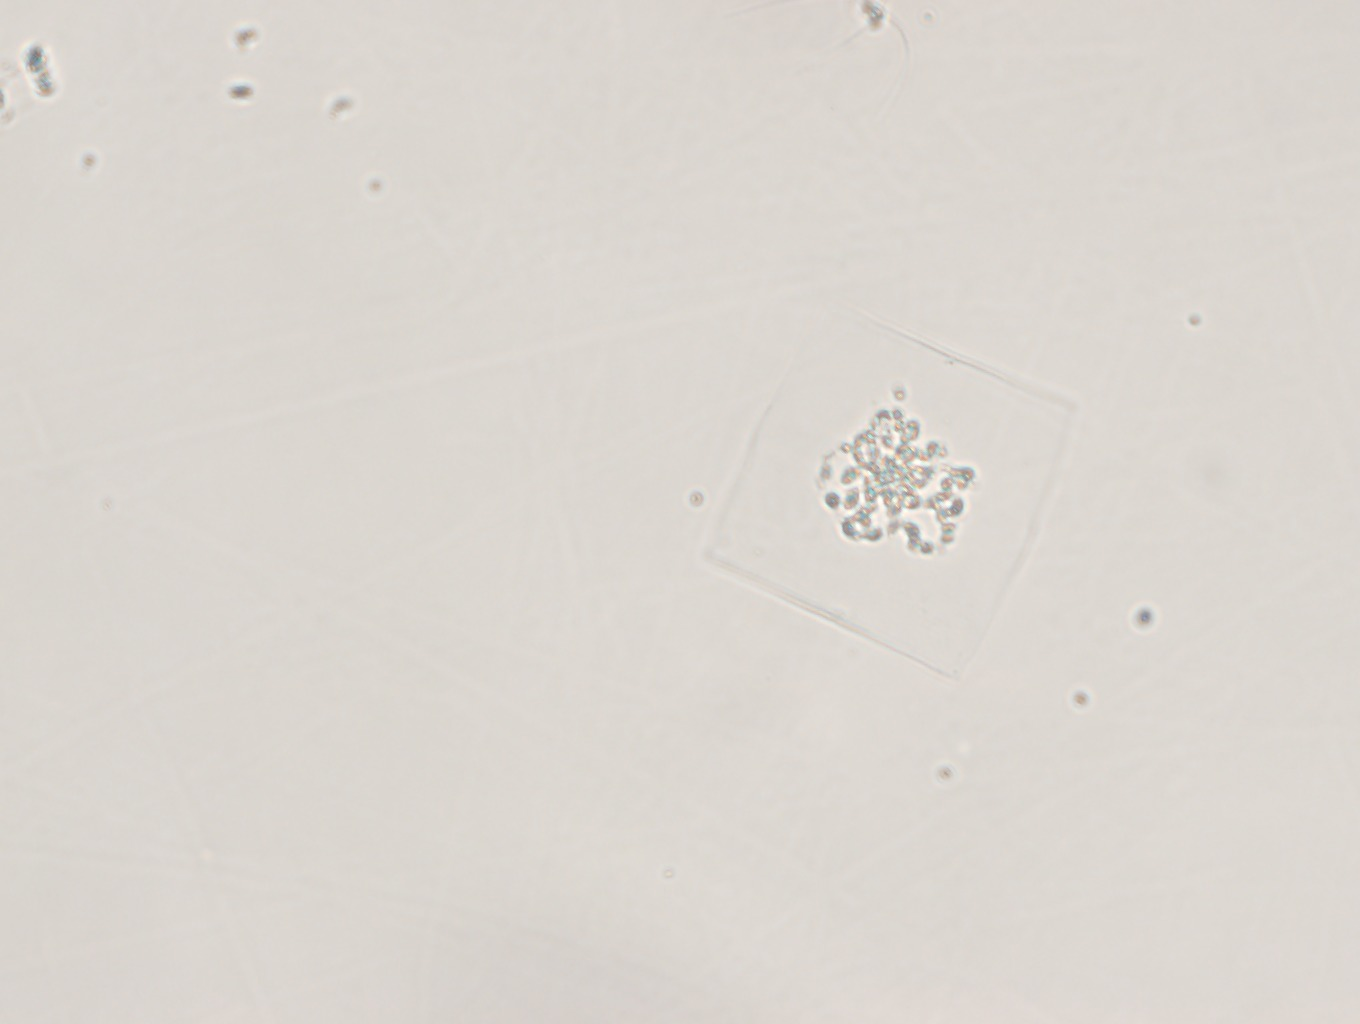helicotheca: (695, 283, 1084, 683)
